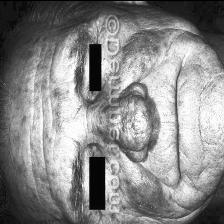Non-Cancerous Skin Condition: (118, 33, 168, 221), (43, 80, 70, 150)
